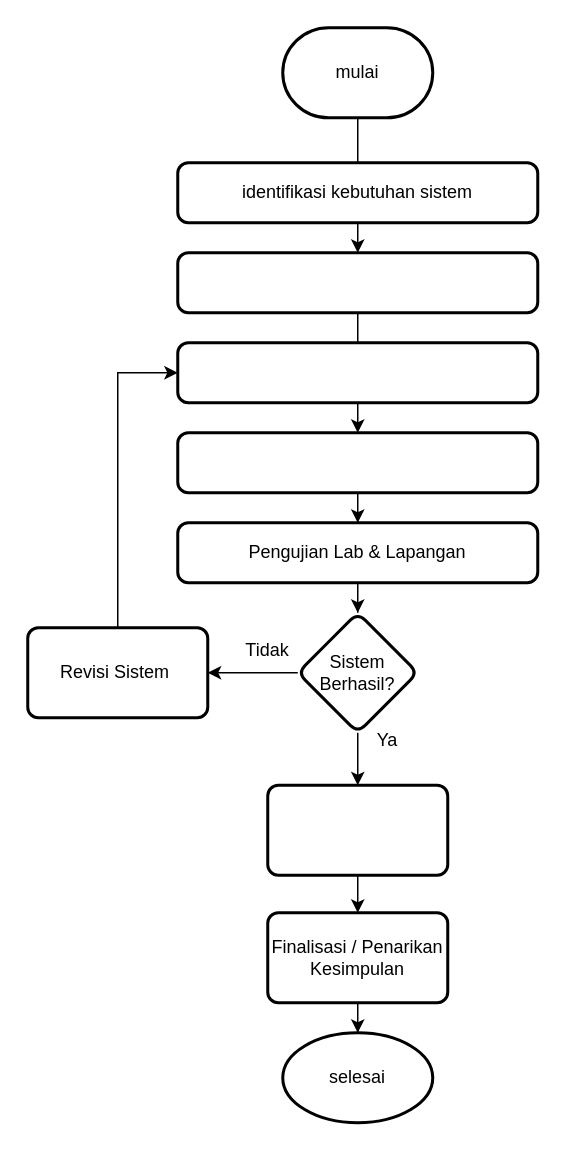
The diagram is 564 pixels wide and 1149 high, and some of its shapes have lost their labels. The shapes that lost their labels are listed below. From the top down, each one's box as (x1, y1, x2, y2) in pixels, then its label:
(176, 250, 538, 314): studi literatur
(176, 340, 538, 404): Perancangan Sistem Monitoring Okupansi Ruangan
(176, 430, 538, 494): Pengembangan Prototype Berbasis ESP 32
(266, 783, 448, 876): Pengumpulan dan Analisis Data
